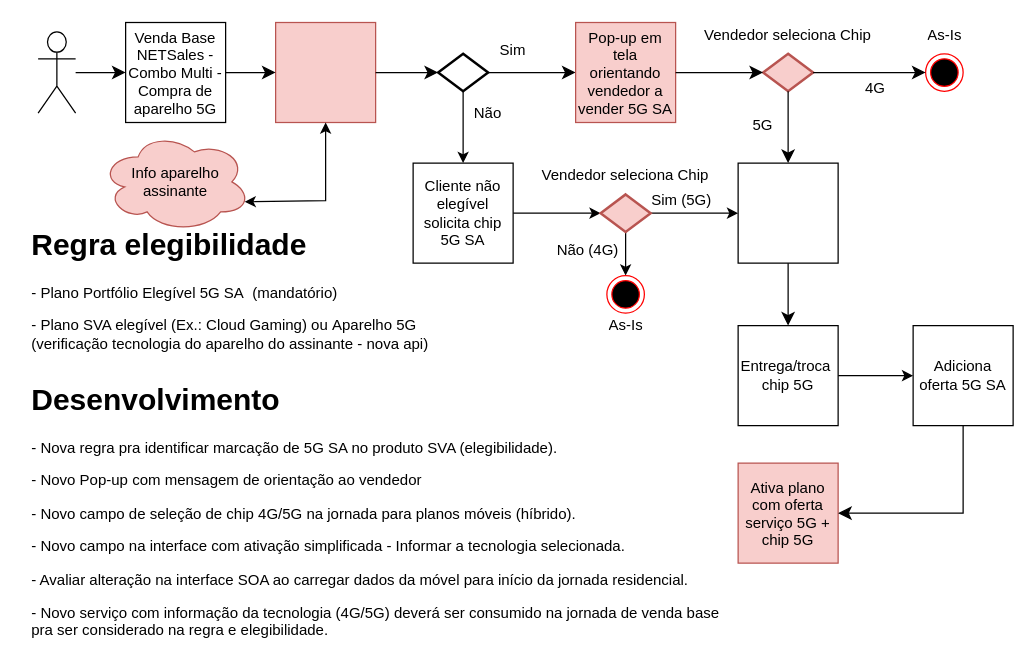
The diagram is 1035 pixels wide and 671 high, and some of its shapes have lost their labels. The box of each missing label's shape, as (x1, y1, x2, y2) in pixels:
Cliente Presencial: (37, 31, 76, 113)
Titular e depen. (caso cliente queira) recebem chip 5G: (737, 162, 838, 263)
Verificação elegibilidade 5G SA: (274, 21, 376, 122)
